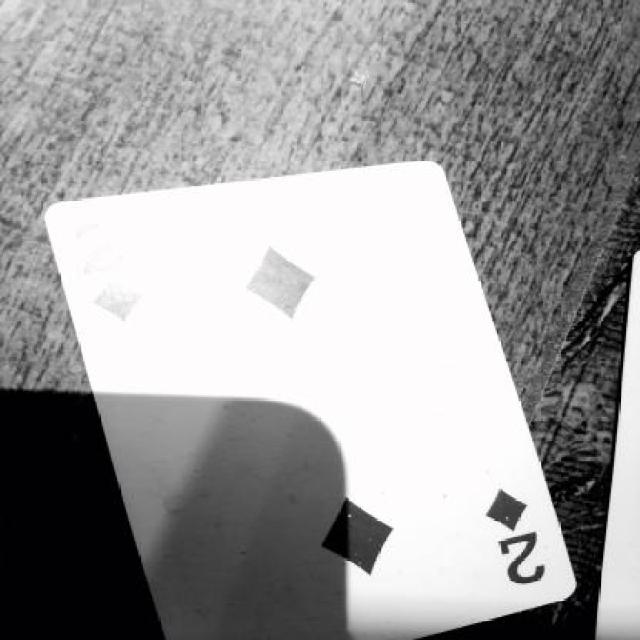2D: (472, 477, 566, 592)
